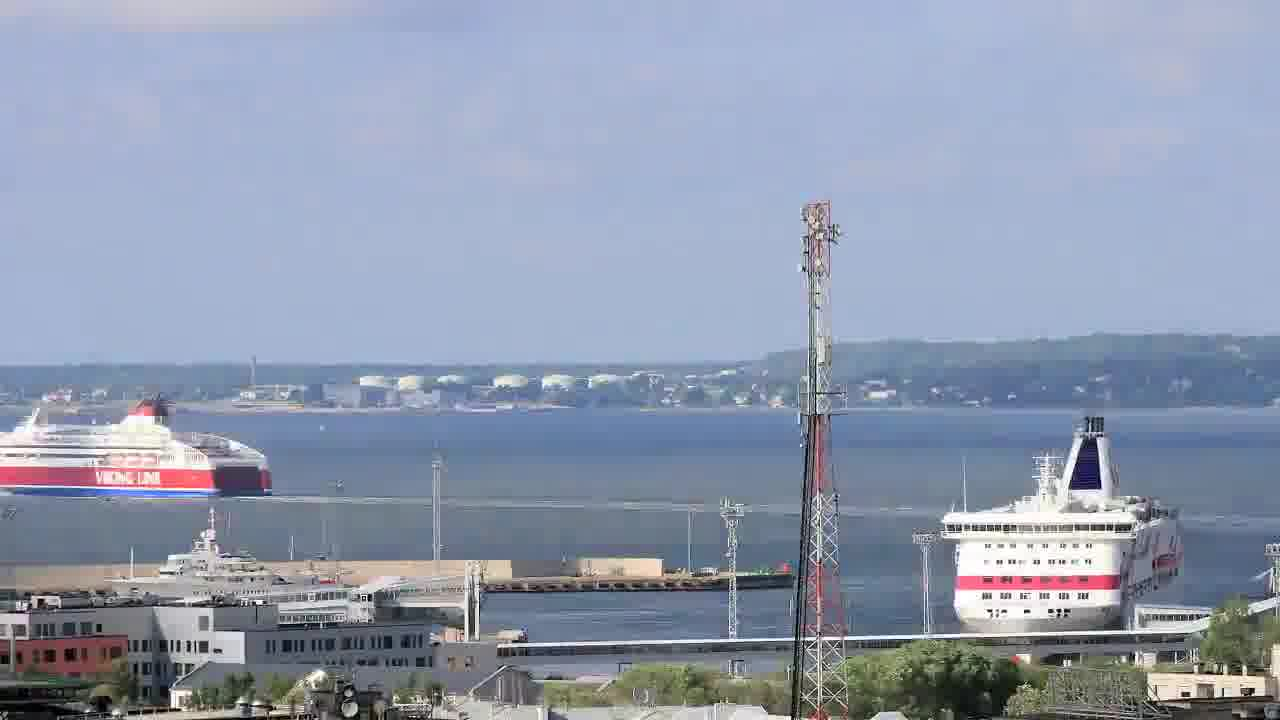type-3: (889, 419, 1189, 638), (0, 386, 274, 504), (89, 518, 402, 620)
